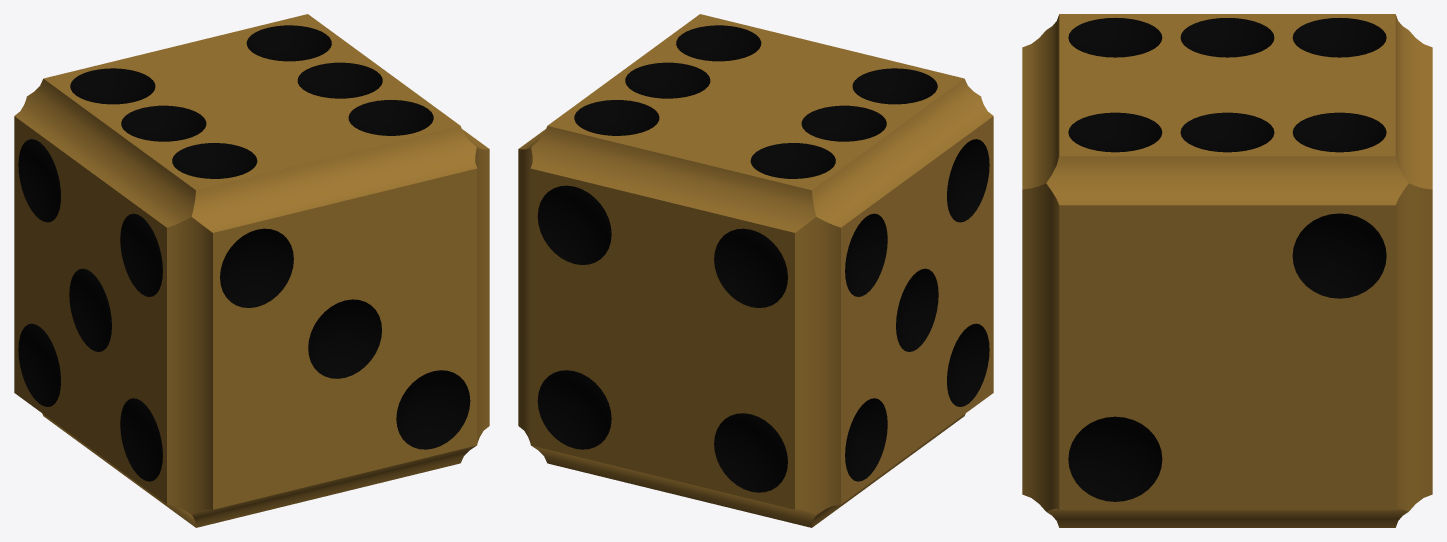
File: dice_w.glb
3 renders of one model, left to right at view 1: azimuth 30°, elevation 25°; view 2: azimuth 150°, elevation 25°; view 3: azimuth 270°, elevation 25°, orthographic. The views are drawn at different scales.
Parts seen in each view (by area): view 1: 6r.001; view 2: 6r.001; view 3: 6r.001.
Boxes of the visible parts, left/top/right/bottom form: 6r.001: left=14, top=14, right=489, bottom=527; 6r.001: left=518, top=14, right=993, bottom=527; 6r.001: left=1022, top=14, right=1432, bottom=527.
Size of the model in its own units: 2 by 2 by 2.
